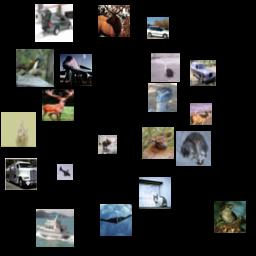airplane: (60, 54, 92, 86), (100, 204, 132, 236), (57, 164, 73, 180)
automobile: (35, 4, 73, 42), (190, 60, 216, 86), (147, 17, 169, 39)
bird: (16, 49, 54, 87), (214, 201, 246, 233), (148, 83, 177, 112), (151, 53, 180, 82)
cat: (176, 131, 211, 166), (1, 112, 36, 147), (139, 177, 171, 209)
deer: (98, 5, 130, 37), (142, 127, 174, 159), (42, 89, 74, 121), (190, 103, 212, 125), (98, 135, 117, 154)
ship: (36, 209, 74, 247)
truck: (5, 158, 37, 190)
